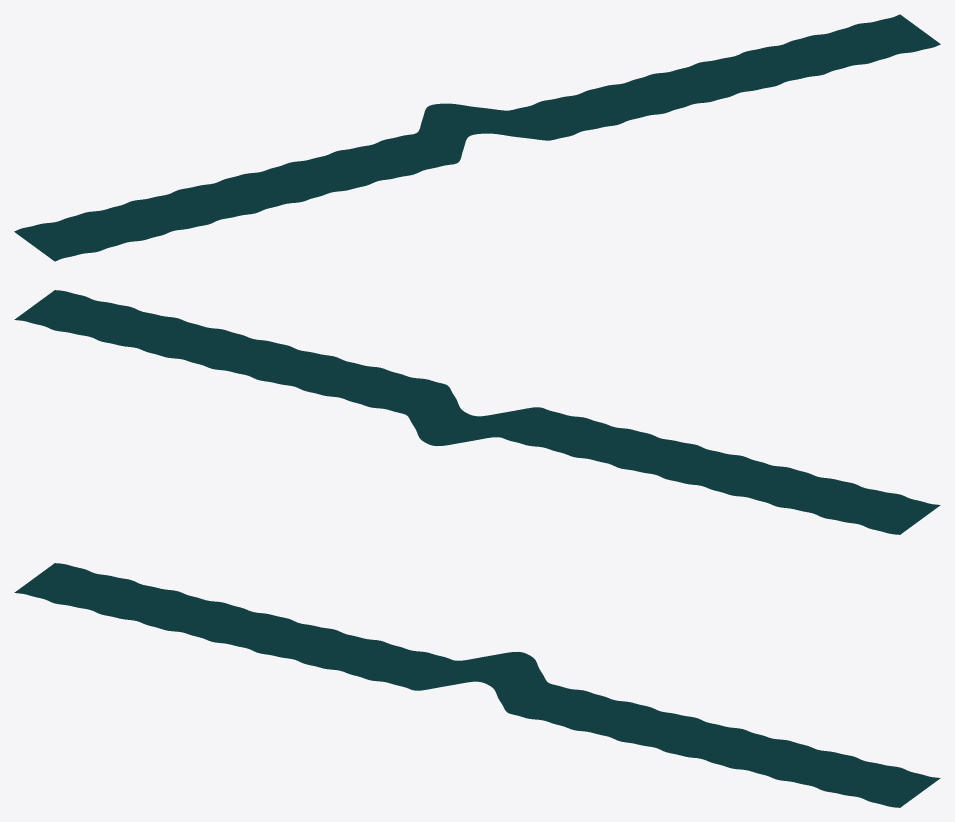
File: river_surface.glb
The picture shows the model from 3 angles, top to bottom: view 1: azimuth 30°, elevation 25°; view 2: azimuth 150°, elevation 25°; view 3: azimuth 330°, elevation 25°; orthographic projection.
Visible parts, largest first — view 1: river_surface; view 2: river_surface; view 3: river_surface.
Part boxes in pixels (x1,y1,x2,y2): river_surface: (14, 14, 940, 261); river_surface: (14, 290, 940, 534); river_surface: (14, 563, 940, 807).
Size of the model in its own units: 60 by 0 by 7.85.
